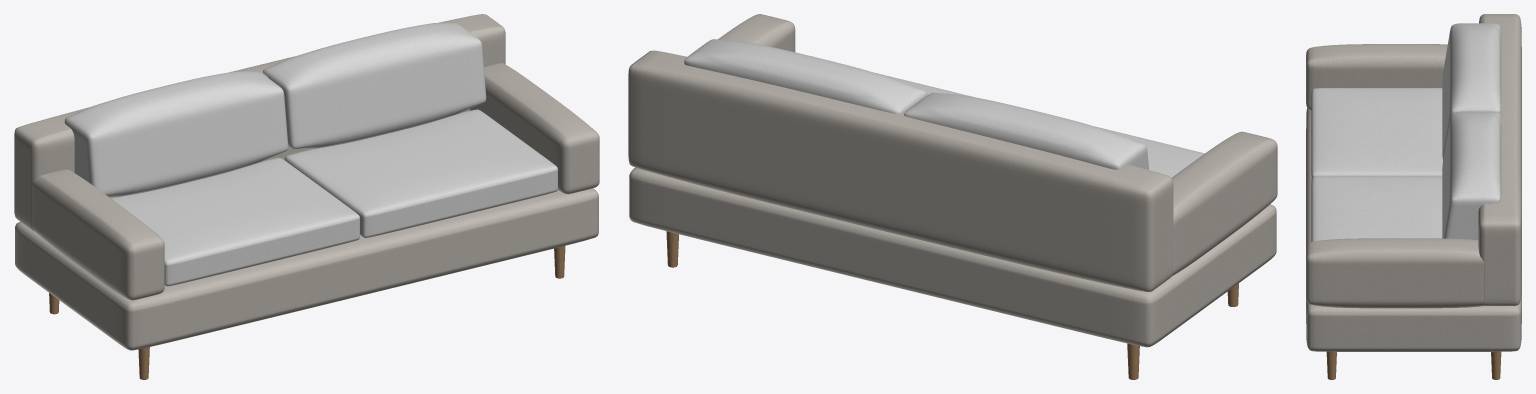
3 renders of one model, left to right at view 1: azimuth 30°, elevation 25°; view 2: azimuth 150°, elevation 25°; view 3: azimuth 270°, elevation 25°, orthographic. The views are drawn at different scales.
Parts seen in each view (by area): view 1: Upholstered base, Seat cushion 2, Back cushion 1, Back cushion 2, Seat cushion 1, Rounded arm L, Rounded arm R, Upholstered back; view 2: Upholstered back, Upholstered base, Rounded arm L, Back cushion 1, Back cushion 2, Rounded arm R, Seat cushion 1; view 3: Rounded arm R, Seat cushion 1, Upholstered base, Upholstered back, Seat cushion 2, Back cushion 2, Rounded arm L, Back cushion 1, Oak leg RB, Oak leg RF.
Boxes of the visible parts, <box> form: Upholstered base: <box>15,188,598,350</box>; Seat cushion 2: <box>285,109,557,237</box>; Back cushion 1: <box>64,71,288,197</box>; Back cushion 2: <box>263,22,486,148</box>; Seat cushion 1: <box>111,157,359,286</box>; Rounded arm L: <box>31,169,164,300</box>; Rounded arm R: <box>470,63,599,194</box>; Upholstered back: <box>14,14,505,231</box>; Upholstered back: <box>628,50,1173,291</box>; Upholstered base: <box>629,167,1276,347</box>; Rounded arm L: <box>1172,131,1277,275</box>; Back cushion 1: <box>904,92,1148,169</box>; Back cushion 2: <box>684,39,927,113</box>; Rounded arm R: <box>718,14,795,52</box>; Seat cushion 1: <box>1097,127,1204,177</box>; Rounded arm R: <box>1306,238,1484,308</box>; Seat cushion 1: <box>1311,88,1442,181</box>; Upholstered base: <box>1306,108,1521,351</box>; Upholstered back: <box>1478,14,1521,305</box>; Seat cushion 2: <box>1311,176,1442,241</box>; Back cushion 2: <box>1442,111,1501,239</box>; Rounded arm L: <box>1306,44,1447,110</box>; Back cushion 1: <box>1442,23,1501,160</box>; Oak leg RB: <box>1491,351,1501,379</box>; Oak leg RF: <box>1326,351,1336,379</box>.
Size of the model in its own units: 1.95 by 0.8 by 0.84.
Materials: 3 (3 with a texture image).
